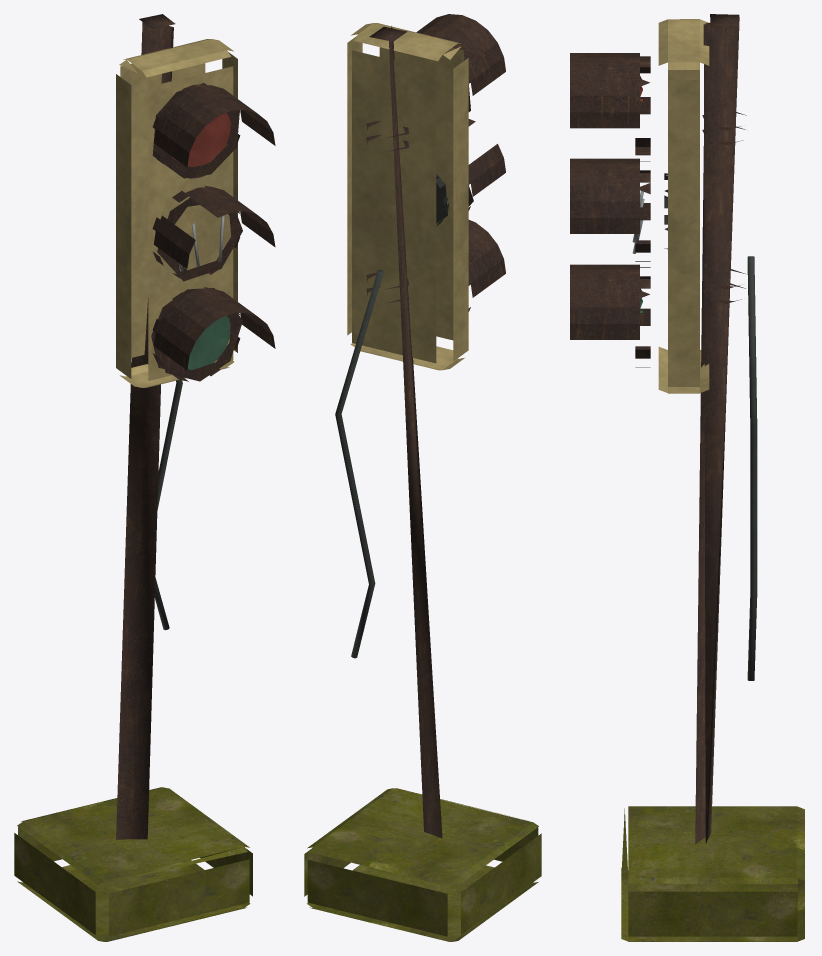
Rendered from lod2_NOT_APPROVED.glb.
The picture shows the model from 3 angles, left to right: view 1: azimuth 30°, elevation 25°; view 2: azimuth 150°, elevation 25°; view 3: azimuth 270°, elevation 25°; orthographic projection. The views are drawn at different scales.
Visible parts, largest first — view 1: f3_oxidized_iron_surface, f3_damp_concrete_surface, f3_faded_safety_ochre_surface, f3_dead_signal_3.08_surface, f3_dead_signal_2.28_surface, f3_aged_rubber_surface; view 2: f3_faded_safety_ochre_surface, f3_damp_concrete_surface, f3_oxidized_iron_surface, f3_aged_rubber_surface; view 3: f3_oxidized_iron_surface, f3_damp_concrete_surface, f3_faded_safety_ochre_surface, f3_aged_rubber_surface.
Part boxes in pixels (x1=…): f3_oxidized_iron_surface: x1=116, y1=14, x2=275, y2=839; f3_damp_concrete_surface: x1=14, y1=787, x2=252, y2=941; f3_faded_safety_ochre_surface: x1=116, y1=39, x2=237, y2=387; f3_dead_signal_3.08_surface: x1=172, y1=113, x2=230, y2=166; f3_dead_signal_2.28_surface: x1=182, y1=315, x2=230, y2=369; f3_aged_rubber_surface: x1=155, y1=380, x2=182, y2=630; f3_faded_safety_ochre_surface: x1=347, y1=23, x2=468, y2=370; f3_damp_concrete_surface: x1=304, y1=788, x2=541, y2=941; f3_oxidized_iron_surface: x1=366, y1=14, x2=505, y2=838; f3_aged_rubber_surface: x1=335, y1=270, x2=383, y2=658; f3_oxidized_iron_surface: x1=570, y1=14, x2=746, y2=844; f3_damp_concrete_surface: x1=621, y1=806, x2=804, y2=941; f3_faded_safety_ochre_surface: x1=658, y1=19, x2=709, y2=393; f3_aged_rubber_surface: x1=747, y1=256, x2=757, y2=680.
Size of the model in its own units: 0.665 by 3.4 by 0.815.
8 materials, 8 textured.
